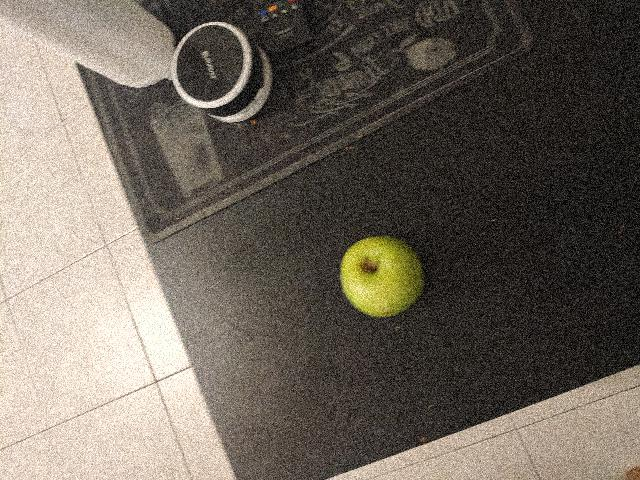apple: (153, 325, 249, 438)
